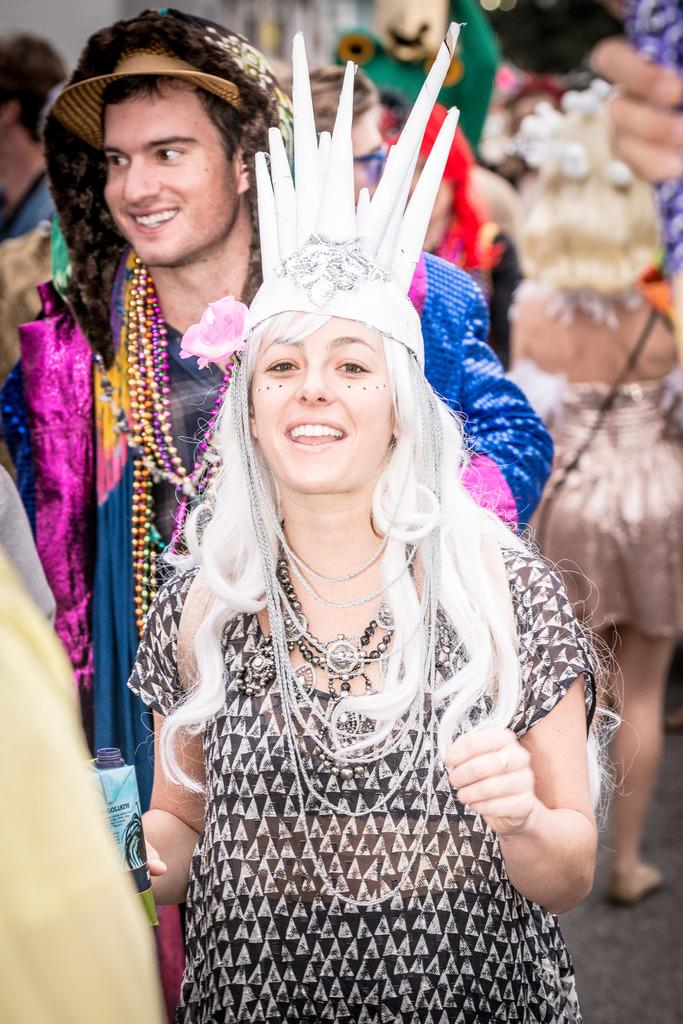Hat: (39, 4, 284, 180)
